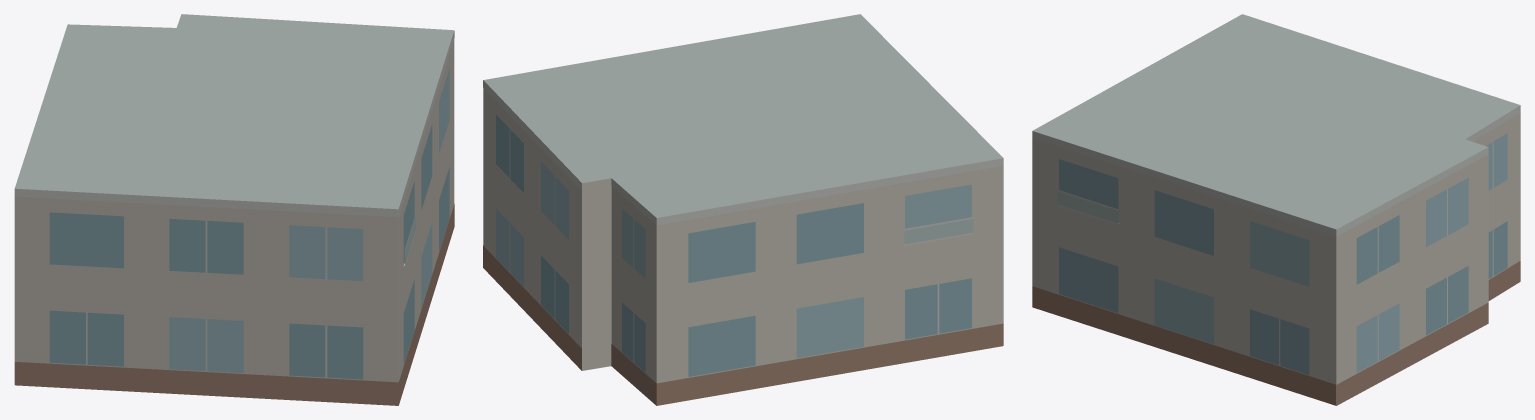
File: survey-upis-32850018.glb
The picture shows the model from 3 angles, left to right: view 1: azimuth 30°, elevation 25°; view 2: azimuth 150°, elevation 25°; view 3: azimuth 270°, elevation 25°; orthographic projection. The views are drawn at different scales.
Visible parts, largest first — view 1: survey-upis-32850018.tmp; view 2: survey-upis-32850018.tmp; view 3: survey-upis-32850018.tmp.
Boxes of the visible parts, x1,y1,x2,y2 form: survey-upis-32850018.tmp: [14, 14, 454, 405]; survey-upis-32850018.tmp: [483, 14, 1003, 405]; survey-upis-32850018.tmp: [1032, 14, 1520, 405].
Bounding box in the file's own units: 15.99 × 6.1 × 15.32.
